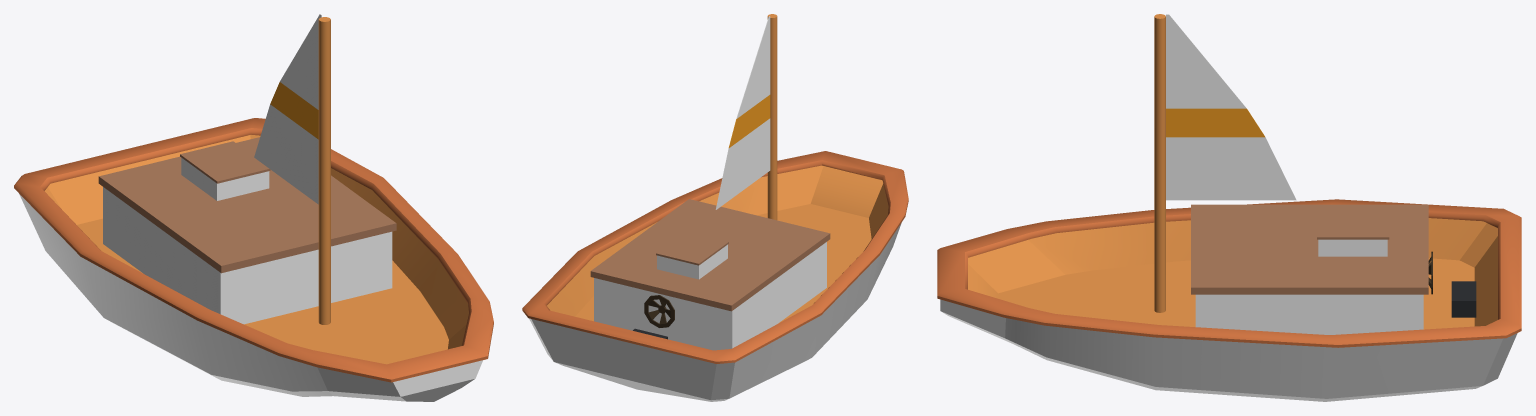
File: Boat_1.fbx
3 views of the same model, side by side, from view 1: azimuth 30°, elevation 25°; view 2: azimuth 150°, elevation 25°; view 3: azimuth 270°, elevation 25° (orthographic). The views are drawn at different scales.
Parts seen in each view (by area): view 1: Boat_1; view 2: Boat_1; view 3: Boat_1.
Part boxes in pixels (bbox=[...]): Boat_1: bbox=[14, 14, 493, 401]; Boat_1: bbox=[522, 14, 908, 401]; Boat_1: bbox=[937, 14, 1521, 401].
Bounding box in the file's own units: 498 × 552 × 852.
